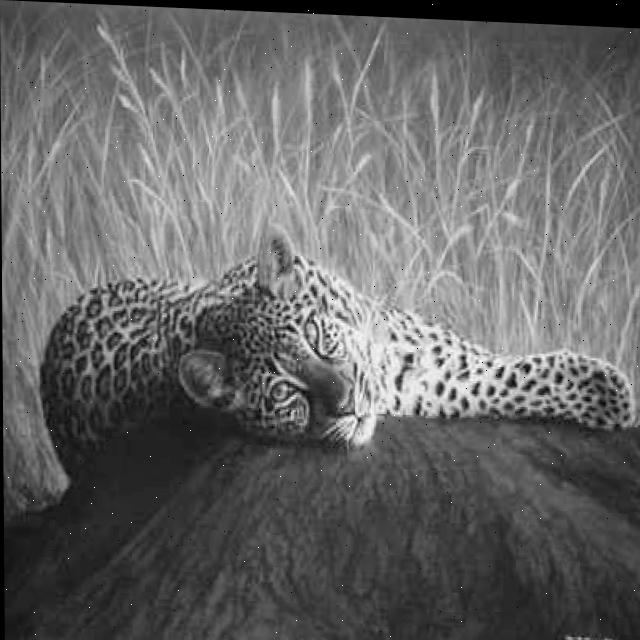Leopard: (35, 206, 636, 514)
